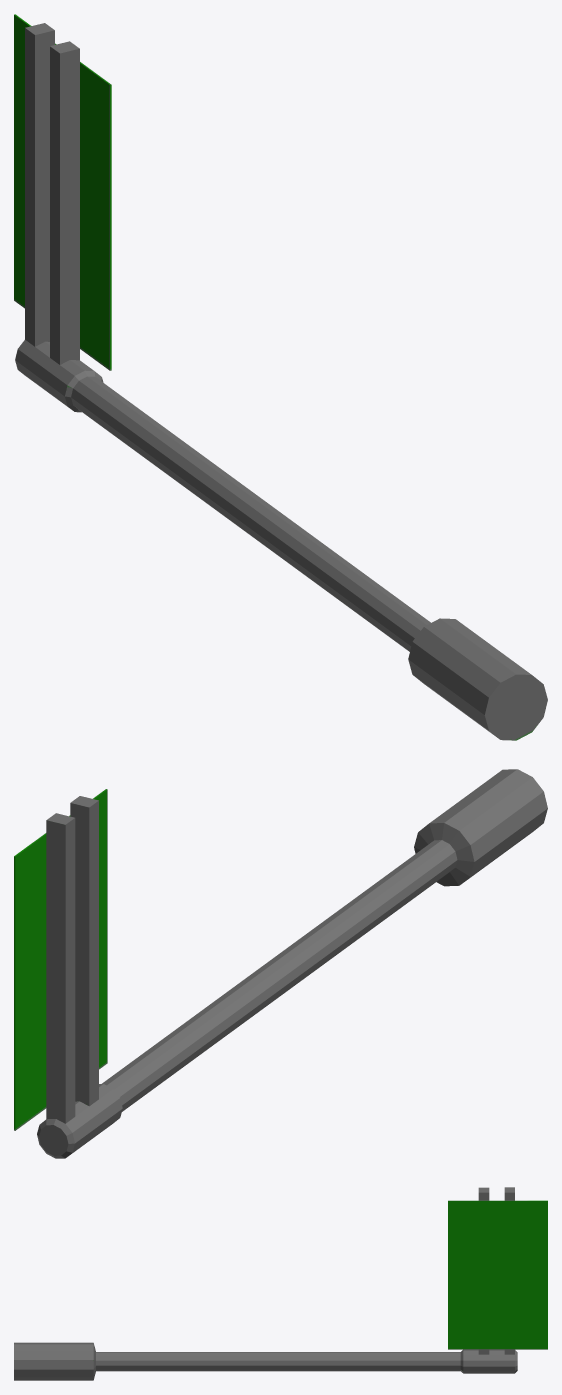
The model's file is sign-green-plate.obj.
3 renders of one model, top to bottom at view 1: azimuth 30°, elevation 25°; view 2: azimuth 150°, elevation 25°; view 3: azimuth 270°, elevation 25°, orthographic. The views are drawn at different scales.
Visible parts, largest first — view 1: sign-green-plate_Plane.199; view 2: sign-green-plate_Plane.199; view 3: sign-green-plate_Plane.199.
Boxes of the visible parts, left/top/right/bottom form: sign-green-plate_Plane.199: left=14, top=14, right=547, bottom=740; sign-green-plate_Plane.199: left=14, top=769, right=547, bottom=1158; sign-green-plate_Plane.199: left=14, top=1187, right=547, bottom=1380.
Bounding box in the file's own units: 0.728 × 3.99 × 10.23.
